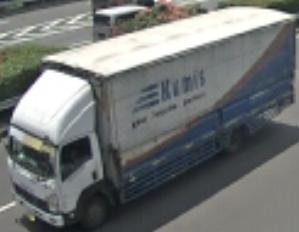truck: (1, 67, 117, 232)
